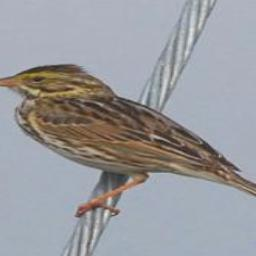Sparrow: (0, 60, 256, 218)
